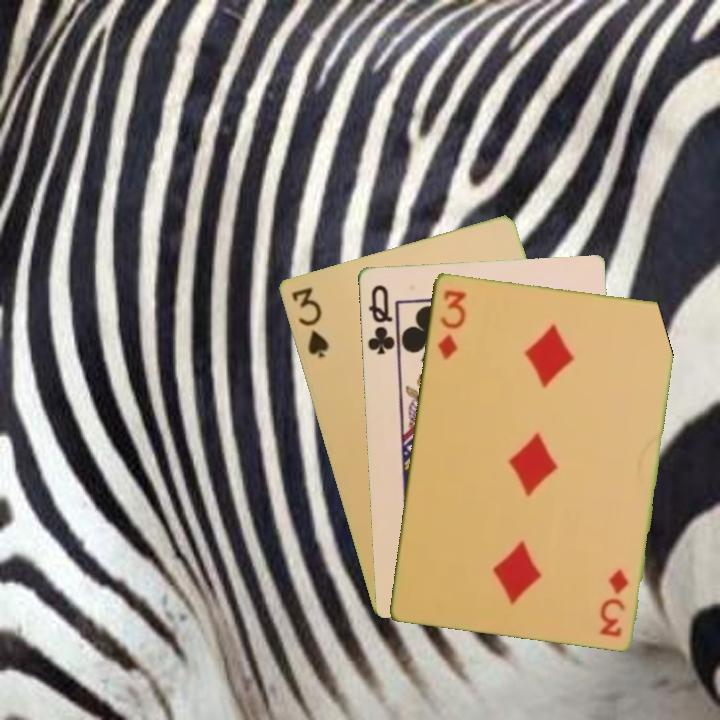3d: (433, 286, 469, 363), (597, 565, 631, 640)
3s: (287, 283, 331, 361)
Qc: (364, 281, 400, 359)
